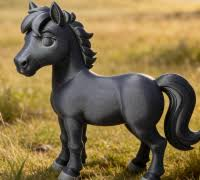3d print: (15, 2, 199, 179)
